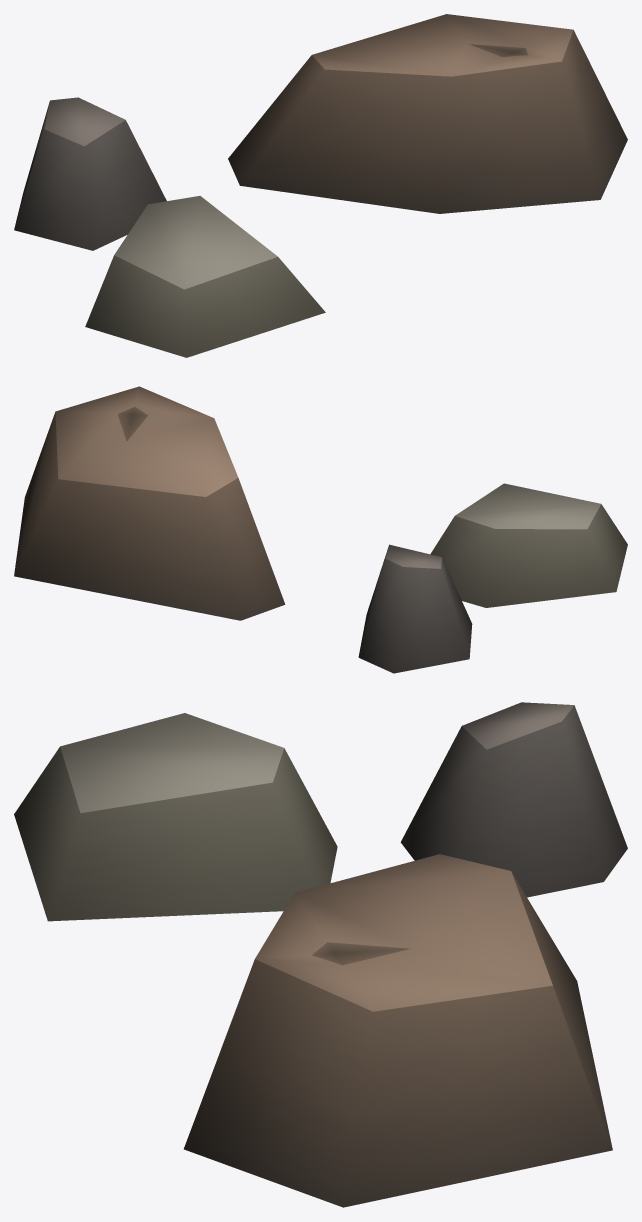
File: Rock_Cluster_3A.fbx
The picture shows the model from 3 angles, top to bottom: view 1: azimuth 30°, elevation 25°; view 2: azimuth 150°, elevation 25°; view 3: azimuth 270°, elevation 25°; orthographic projection. The views are drawn at different scales.
Parts seen in each view (by area): view 1: Rock_Cluster_3A; view 2: Rock_Cluster_3A; view 3: Rock_Cluster_3A.
Boxes of the visible parts, x1,y1,x2,y2 form: Rock_Cluster_3A: [14, 14, 627, 357]; Rock_Cluster_3A: [14, 386, 627, 673]; Rock_Cluster_3A: [14, 702, 627, 1207].
Size of the model in its own units: 207 by 40.99 by 127.
